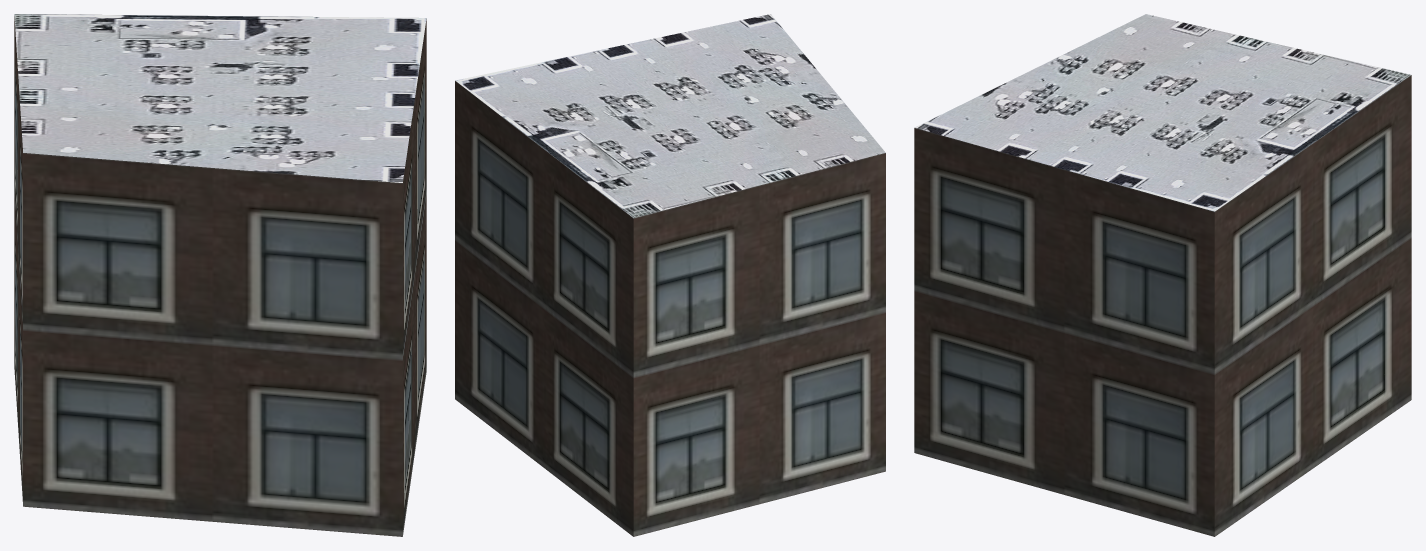
File: ResTex__3435.fbx
3 renders of one model, left to right at view 1: azimuth 30°, elevation 25°; view 2: azimuth 150°, elevation 25°; view 3: azimuth 270°, elevation 25°, orthographic. The views are drawn at different scales.
Parts seen in each view (by area): view 1: CityEngineMaterial_16_m, CityEngineMaterial_15_m; view 2: CityEngineMaterial_16_m, CityEngineMaterial_15_m; view 3: CityEngineMaterial_16_m, CityEngineMaterial_15_m.
Part boxes in pixels (x1,y1,x2,y2): CityEngineMaterial_16_m: (14,16,426,536); CityEngineMaterial_15_m: (14,14,426,182); CityEngineMaterial_16_m: (455,81,885,536); CityEngineMaterial_15_m: (455,14,885,218); CityEngineMaterial_16_m: (914,75,1411,536); CityEngineMaterial_15_m: (915,14,1410,211).
Bounding box in the file's own units: 7.82 × 6 × 8.31.
Materials: 2 (2 with a texture image).
